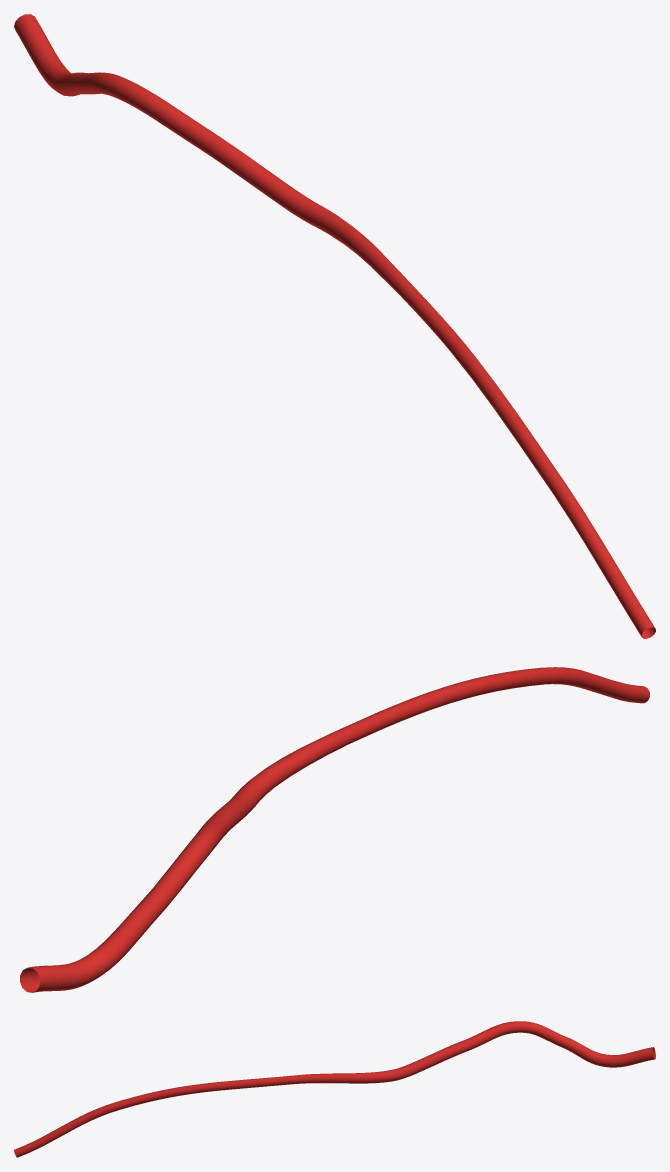
Rendered from circulatorio-medial-plantar-veins-r.glb.
3 views of the same model, one above another, from view 1: azimuth 30°, elevation 25°; view 2: azimuth 150°, elevation 25°; view 3: azimuth 270°, elevation 25° (orthographic). The views are drawn at different scales.
Parts seen in each view (by area): view 1: Medial plantar veins.r; view 2: Medial plantar veins.r; view 3: Medial plantar veins.r.
Part boxes in pixels (x1,y1,x2,y2): Medial plantar veins.r: (14,14,655,638); Medial plantar veins.r: (20,667,649,992); Medial plantar veins.r: (14,1021,655,1157).
Bounding box in the file's own units: 0.00944 × 0.0209 × 0.0998.
